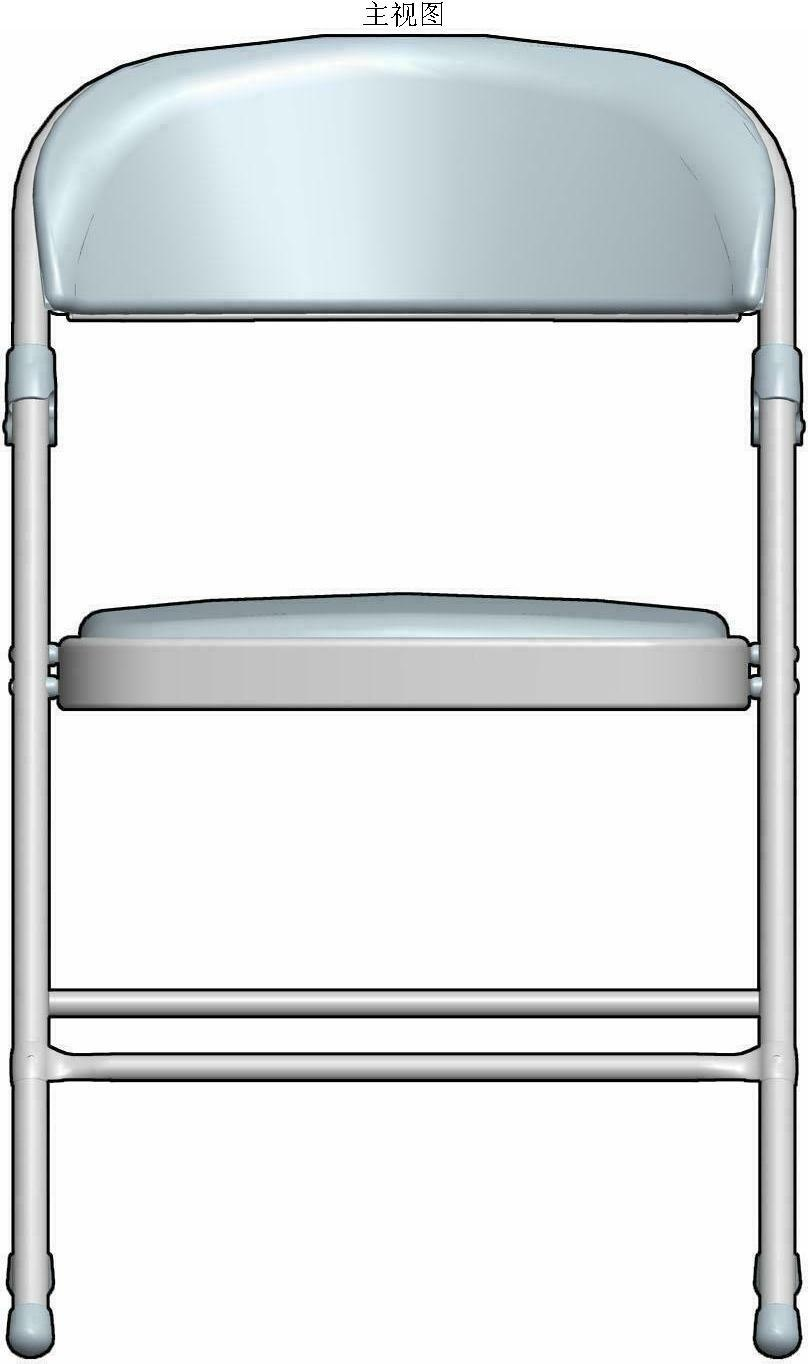obstacle: (8, 35, 800, 1355)
